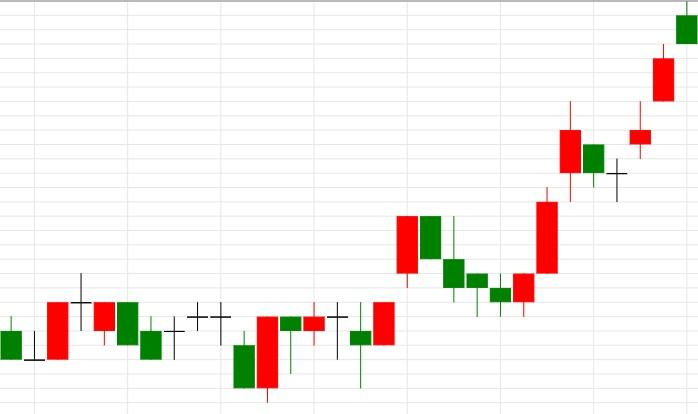bullish_engulfing_rise: (186, 301, 278, 402)
three_white_soldiers_rise: (420, 102, 581, 317)
